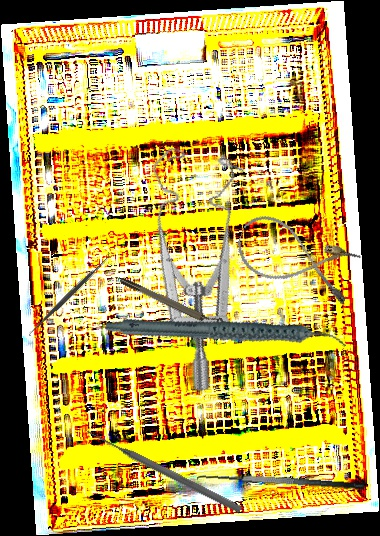Cannula: (229, 208, 364, 309)
Fixation Ring: (118, 270, 227, 335)
Handpiece: (103, 271, 349, 398)
Pusher: (84, 426, 244, 515)
Spatula Surgical: (23, 249, 116, 340), (196, 467, 365, 505)
Speculum: (82, 134, 291, 395)
